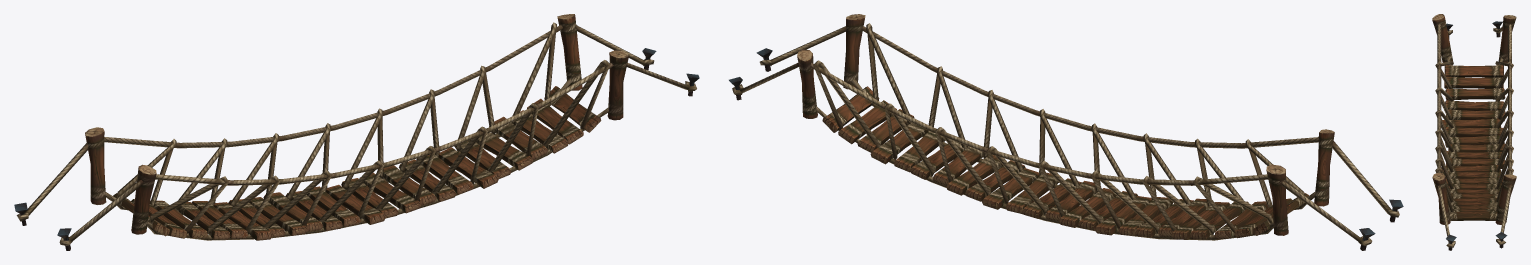
The model's file is rope_bridge_example_06.fbx.
3 views of the same model, side by side, from view 1: azimuth 30°, elevation 25°; view 2: azimuth 150°, elevation 25°; view 3: azimuth 270°, elevation 25° (orthographic). The views are drawn at different scales.
Parts seen in each view (by area): view 1: rope_bridge_example_06; view 2: rope_bridge_example_06; view 3: rope_bridge_example_06.
Boxes of the visible parts, <box> form: rope_bridge_example_06: <box>14,14,699,250</box>; rope_bridge_example_06: <box>729,14,1403,250</box>; rope_bridge_example_06: <box>1432,14,1516,250</box>.
Bounding box in the file's own units: 1152 × 200 × 187.
